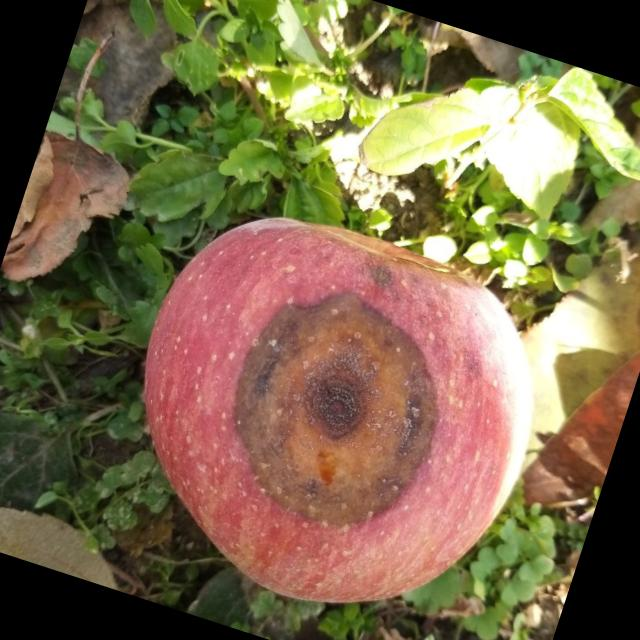rotten: (74, 173, 579, 640)
